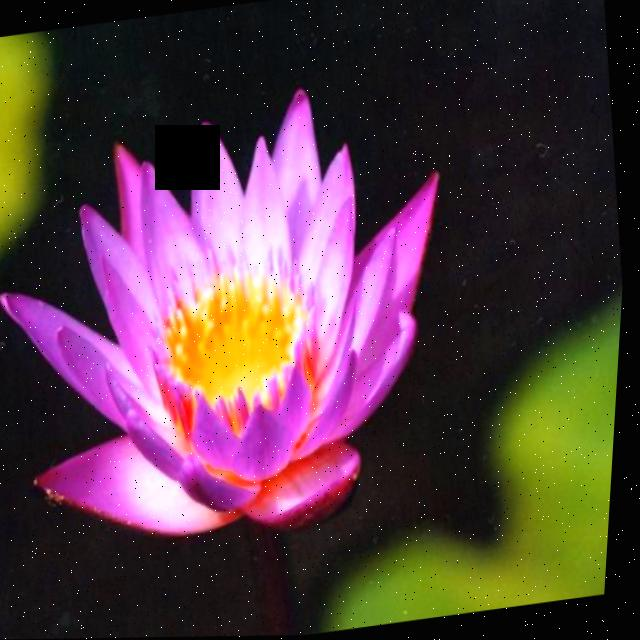rose: (0, 0, 532, 640)
